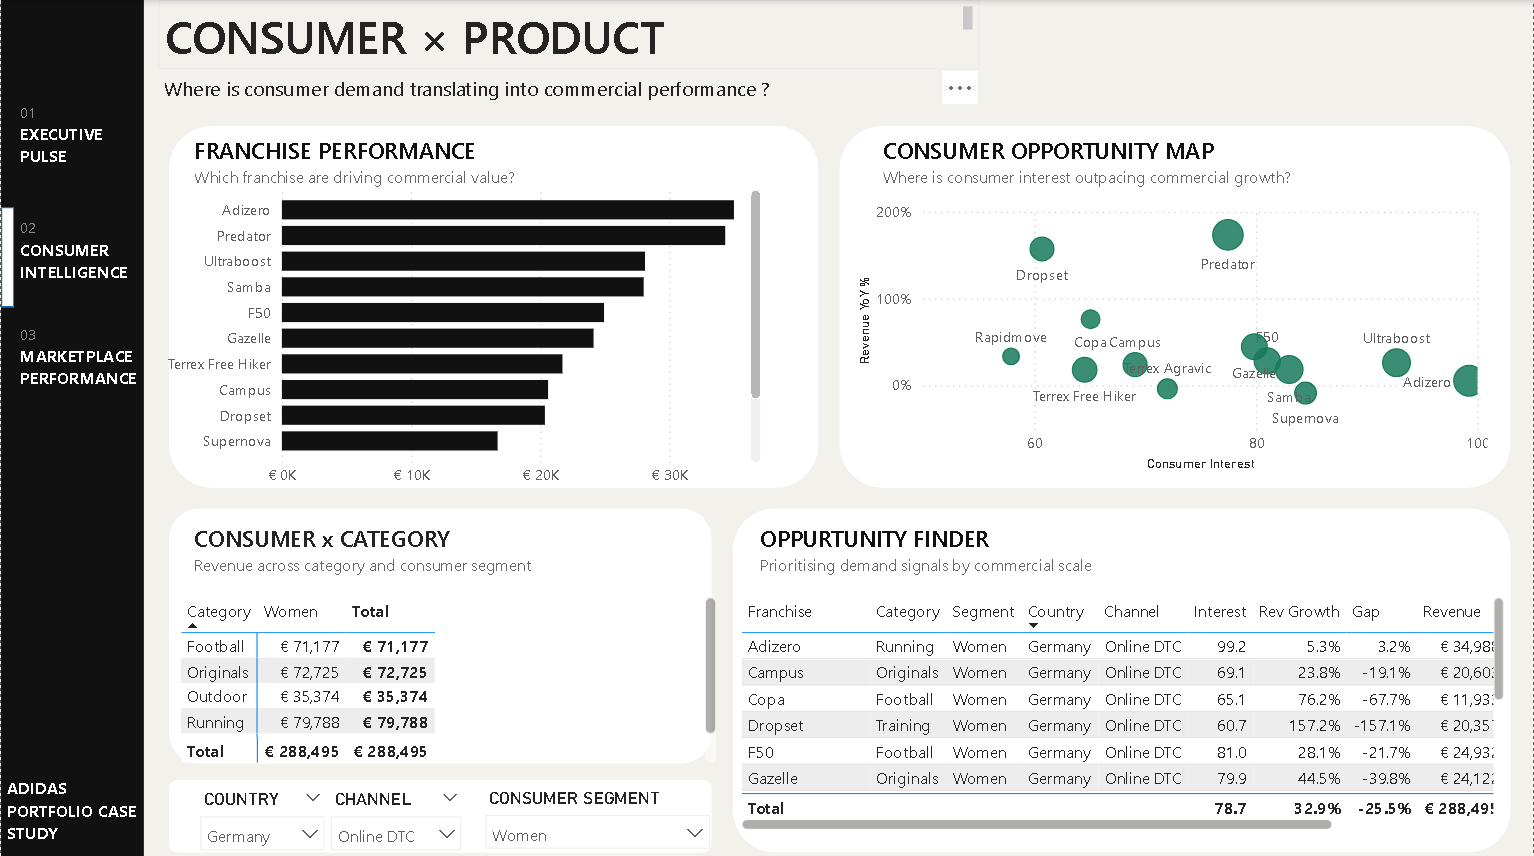

The page's visual inventory and layout, read from the dashboard file:
{"tool":"powerbi","page":{"name":"Consumer  Intelligence","canvas":[1280,720],"ordinal":2},"visuals":[{"type":"shape","box":[691.7,96.1,577.7,319.8],"z":0},{"type":"shape","box":[602.5,415.8,667,304.7],"z":1000},{"type":"shape","box":[131.7,415.8,470.7,230.6],"z":2000},{"type":"shape","box":[131.7,642.2,470.7,78.2],"z":3000},{"type":"shape","box":[131.7,96.1,559.9,319.8],"z":4000},{"type":"textbox","box":[131.7,0,684.8,57.6],"z":5000},{"type":"textbox","box":[131.7,57.6,905.7,34.3],"z":6000},{"type":"clusteredBarChart","fields":{"Category":["Fact_Sales.Franchise"],"Y":["Fact_Sales.Total Revenue"]},"box":[120.8,145.5,518.7,270.3],"z":7000},{"type":"scatterChart","fields":{"X":["Fact_Sales.Consumer Interest"],"Y":["Fact_Sales.Revenue YoY %"],"Size":["Fact_Sales.Total Revenue"],"Category":["Fact_Sales.Franchise"]},"box":[710.9,161.9,536.6,236],"z":8000},{"type":"pivotTable","fields":{"Rows":["Fact_Sales.Category"],"Columns":["Fact_Sales.Consumer_Segment"],"Values":["Fact_Sales.Total Revenue"]},"box":[145.5,494,457,148.2],"z":9000},{"type":"slicer","fields":{"Values":["Fact_Sales.Country"]},"box":[156.4,654.6,123.5,57.6],"z":10000},{"type":"slicer","fields":{"Values":["Fact_Sales.Channel"]},"box":[266.2,654.6,129,56.3],"z":11000},{"type":"slicer","fields":{"Values":["Fact_Sales.Consumer_Segment"]},"box":[395.2,653.2,207.2,57.6],"z":12000},{"type":"shape","box":[0,0,119.4,720.5],"z":13000},{"type":"tableEx","fields":{"Values":["Fact_Sales.Franchise","Fact_Sales.Category","Fact_Sales.Consumer_Segment","Fact_Sales.Country","Fact_Sales.Channel","Fact_Sales.Consumer Interest","Fact_Sales.Revenue YoY %","Fact_Sales.Opportunity Gap","Fact_Sales.Total Revenue","Fact_Sales.Opportunity Priority"]},"box":[612.1,494,647.7,204.5],"z":14000},{"type":"textbox","box":[10.8,78.2,89.2,83.8],"z":15000},{"type":"shape","box":[0,172.9,11,83.7],"z":16000},{"type":"textbox","box":[10.8,174.2,108.1,89.2],"z":17000},{"type":"textbox","box":[10.8,263.4,108.1,87.9],"z":18000},{"type":"textbox","box":[0,642.2,131.7,78.2],"z":19000},{"type":"textbox","box":[156.4,107,360.9,54.9],"z":20000},{"type":"textbox","box":[731.5,107,492.7,54.9],"z":21000},{"type":"textbox","box":[156.4,430.9,360.9,63.1],"z":22000},{"type":"textbox","box":[628.5,430.9,631.3,63.1],"z":23000}]}

Visuals, with their boxes on the page's 1280x720 design canvas (x1, y1, x2, y2). These are canvas units, not pixel positions in the 1534x856 screenshot, which may show the page scaled, cropped or inside an application window:
shape: x1=692, y1=96, x2=1269, y2=416
shape: x1=602, y1=416, x2=1270, y2=720
shape: x1=132, y1=416, x2=602, y2=646
shape: x1=132, y1=642, x2=602, y2=720
shape: x1=132, y1=96, x2=692, y2=416
textbox: x1=132, y1=0, x2=816, y2=58
textbox: x1=132, y1=58, x2=1037, y2=92
clusteredBarChart - Fact_Sales.Franchise x Fact_Sales.Total Revenue: x1=121, y1=146, x2=640, y2=416
scatterChart - Fact_Sales.Consumer Interest x Fact_Sales.Revenue YoY %: x1=711, y1=162, x2=1248, y2=398
pivotTable - Fact_Sales.Category x Fact_Sales.Consumer_Segment: x1=146, y1=494, x2=602, y2=642
slicer - Fact_Sales.Country: x1=156, y1=655, x2=280, y2=712
slicer - Fact_Sales.Channel: x1=266, y1=655, x2=395, y2=711
slicer - Fact_Sales.Consumer_Segment: x1=395, y1=653, x2=602, y2=711
shape: x1=0, y1=0, x2=119, y2=720
tableEx - Fact_Sales.Franchise x Fact_Sales.Category: x1=612, y1=494, x2=1260, y2=698
textbox: x1=11, y1=78, x2=100, y2=162
shape: x1=0, y1=173, x2=11, y2=257
textbox: x1=11, y1=174, x2=119, y2=263
textbox: x1=11, y1=263, x2=119, y2=351
textbox: x1=0, y1=642, x2=132, y2=720
textbox: x1=156, y1=107, x2=517, y2=162
textbox: x1=732, y1=107, x2=1224, y2=162
textbox: x1=156, y1=431, x2=517, y2=494
textbox: x1=628, y1=431, x2=1260, y2=494
